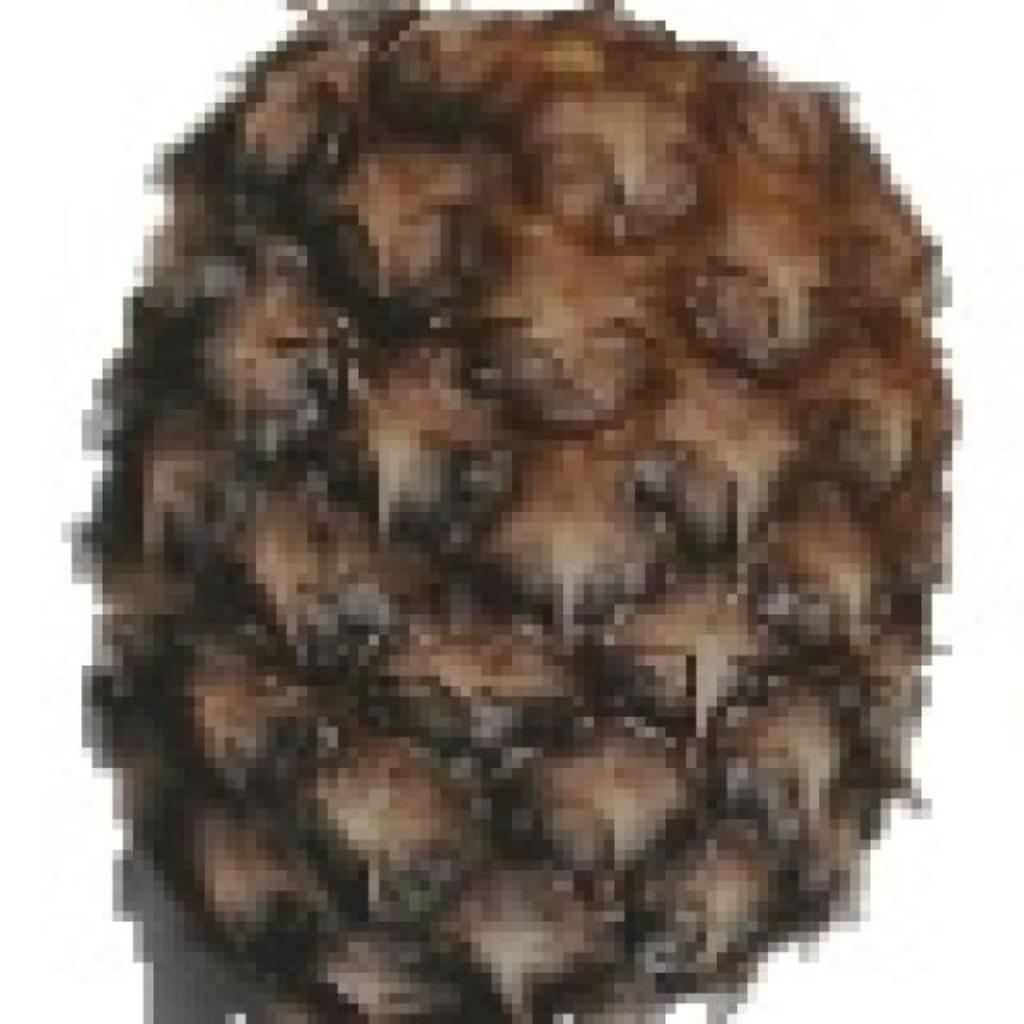pineapple: (86, 0, 952, 1024)
